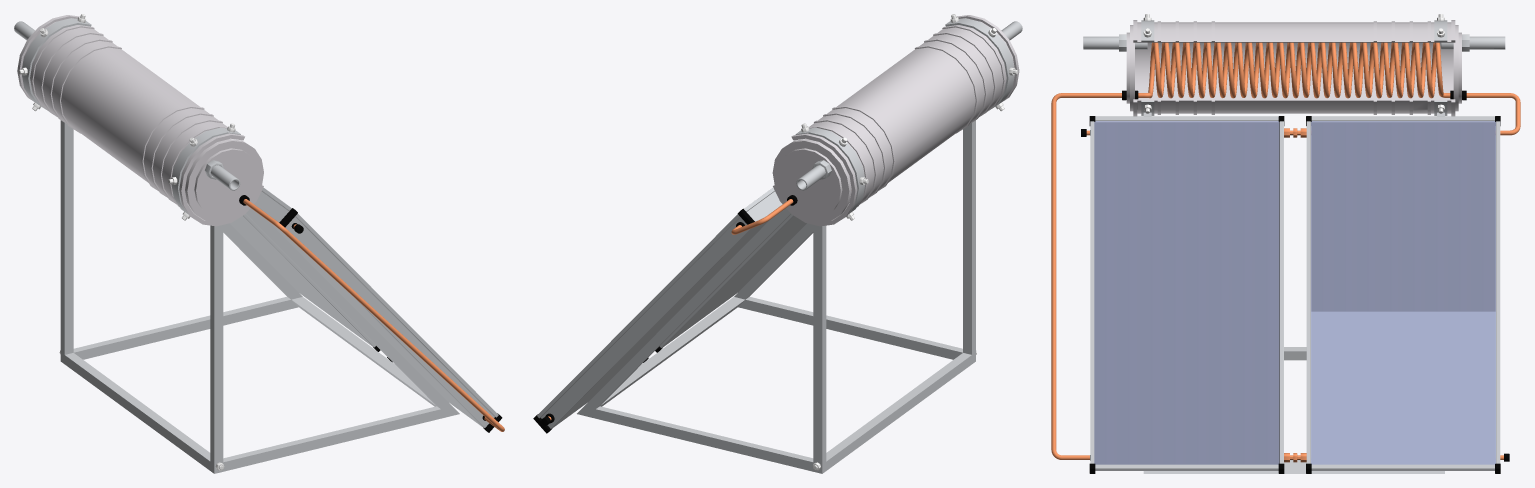
3 views of the same model, side by side, from view 1: azimuth 30°, elevation 25°; view 2: azimuth 150°, elevation 25°; view 3: azimuth 270°, elevation 25° (orthographic).
Visible parts, largest first — view 1: tank, stand, collector, contour; view 2: tank, stand, collector, contour; view 3: collector, glass, absorber, glass-cut, tank, contour, stand.
Boxes of the visible parts, <box> form: tank: <box>14,14,263,226</box>; stand: <box>59,120,459,473</box>; collector: <box>230,187,502,432</box>; contour: <box>243,199,504,431</box>; tank: <box>772,14,1022,226</box>; stand: <box>577,120,976,473</box>; collector: <box>533,187,806,433</box>; contour: <box>541,199,793,425</box>; collector: <box>1089,116,1500,473</box>; glass: <box>1311,121,1495,464</box>; absorber: <box>1311,122,1495,311</box>; glass-cut: <box>1311,312,1495,463</box>; tank: <box>1083,14,1505,116</box>; contour: <box>1051,42,1520,462</box>; stand: <box>1143,112,1444,473</box>.
Size of the model in its own units: 4.28 by 4.62 by 5.83.
